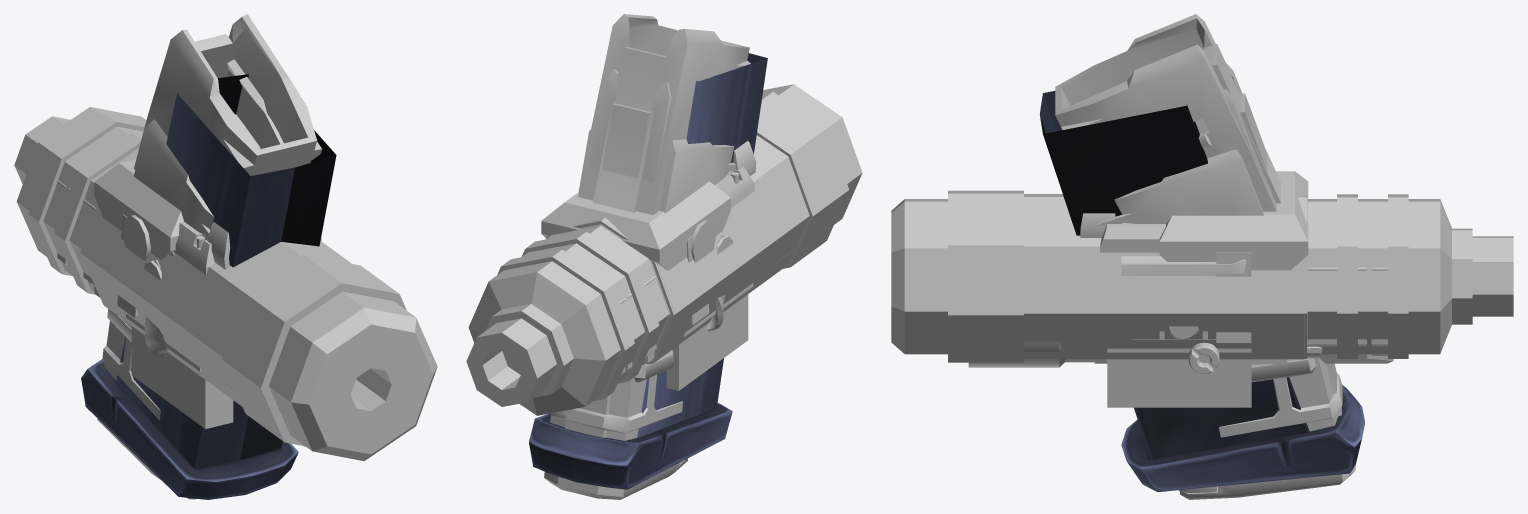
File: Pistol_Parts.FBX
The picture shows the model from 3 angles, left to right: view 1: azimuth 30°, elevation 25°; view 2: azimuth 150°, elevation 25°; view 3: azimuth 270°, elevation 25°; orthographic projection. The views are drawn at different scales.
Parts seen in each view (by area): view 1: Pistol_Muzzle-5, Pistol_Magazine-1, Pistol_Muzzle-3, Pistol_Magazine-5, Pistol_Scope-1, Pistol_Laser-5, Pistol_Magazine-2, Pistol_Magazine-4, Pistol_Laser-4, Pistol_Laser-3, Pistol_Scope-2; view 2: Pistol_Muzzle-5, Pistol_Muzzle-3, Pistol_Magazine-5, Pistol_Magazine-1, Pistol_Laser-5, Pistol_Magazine-4, Pistol_Scope-1, Pistol_Magazine-2, Pistol_Muzzle-4, Pistol_Laser-4, Pistol_Laser-3, Pistol_Scope-2; view 3: Pistol_Muzzle-3, Pistol_Muzzle-5, Pistol_Magazine-1, Pistol_Magazine-5, Pistol_Laser-5, Pistol_Scope-1, Pistol_Magazine-2, Pistol_Scope-2, Pistol_Muzzle-4, Pistol_Laser-4, Pistol_Magazine-4.
Part boxes in pixels (left/top/right/bottom): Pistol_Muzzle-5: left=14, top=107, right=437, bottom=461; Pistol_Magazine-1: left=81, top=74, right=336, bottom=499; Pistol_Muzzle-3: left=81, top=206, right=406, bottom=446; Pistol_Magazine-5: left=97, top=14, right=322, bottom=499; Pistol_Scope-1: left=126, top=222, right=320, bottom=428; Pistol_Laser-5: left=57, top=159, right=306, bottom=447; Pistol_Magazine-2: left=107, top=119, right=214, bottom=342; Pistol_Magazine-4: left=227, top=59, right=283, bottom=148; Pistol_Laser-4: left=88, top=221, right=321, bottom=285; Pistol_Laser-3: left=122, top=215, right=150, bottom=260; Pistol_Scope-2: left=143, top=252, right=174, bottom=357; Pistol_Muzzle-5: left=466, top=84, right=862, bottom=415; Pistol_Muzzle-3: left=579, top=91, right=849, bottom=363; Pistol_Magazine-5: left=544, top=14, right=750, bottom=499; Pistol_Magazine-1: left=529, top=53, right=767, bottom=489; Pistol_Laser-5: left=541, top=181, right=795, bottom=374; Pistol_Magazine-4: left=588, top=69, right=671, bottom=182; Pistol_Scope-1: left=666, top=141, right=756, bottom=390; Pistol_Magazine-2: left=578, top=129, right=735, bottom=382; Pistol_Muzzle-4: left=485, top=304, right=573, bottom=397; Pistol_Laser-4: left=645, top=167, right=754, bottom=358; Pistol_Laser-3: left=691, top=220, right=716, bottom=262; Pistol_Scope-2: left=706, top=235, right=733, bottom=331; Pistol_Muzzle-3: left=948, top=190, right=1307, bottom=362; Pistol_Muzzle-5: left=891, top=194, right=1513, bottom=358; Pistol_Magazine-1: left=1039, top=91, right=1364, bottom=491; Pistol_Magazine-5: left=1055, top=14, right=1355, bottom=499; Pistol_Laser-5: left=968, top=171, right=1393, bottom=367; Pistol_Scope-1: left=1080, top=213, right=1251, bottom=407; Pistol_Magazine-2: left=1094, top=149, right=1321, bottom=382; Pistol_Scope-2: left=1121, top=256, right=1287, bottom=374; Pistol_Muzzle-4: left=1452, top=228, right=1472, bottom=324; Pistol_Laser-4: left=1065, top=222, right=1327, bottom=362; Pistol_Magazine-4: left=1195, top=63, right=1267, bottom=180.
Size of the model in its own units: 8.1 by 22.26 by 27.52.
